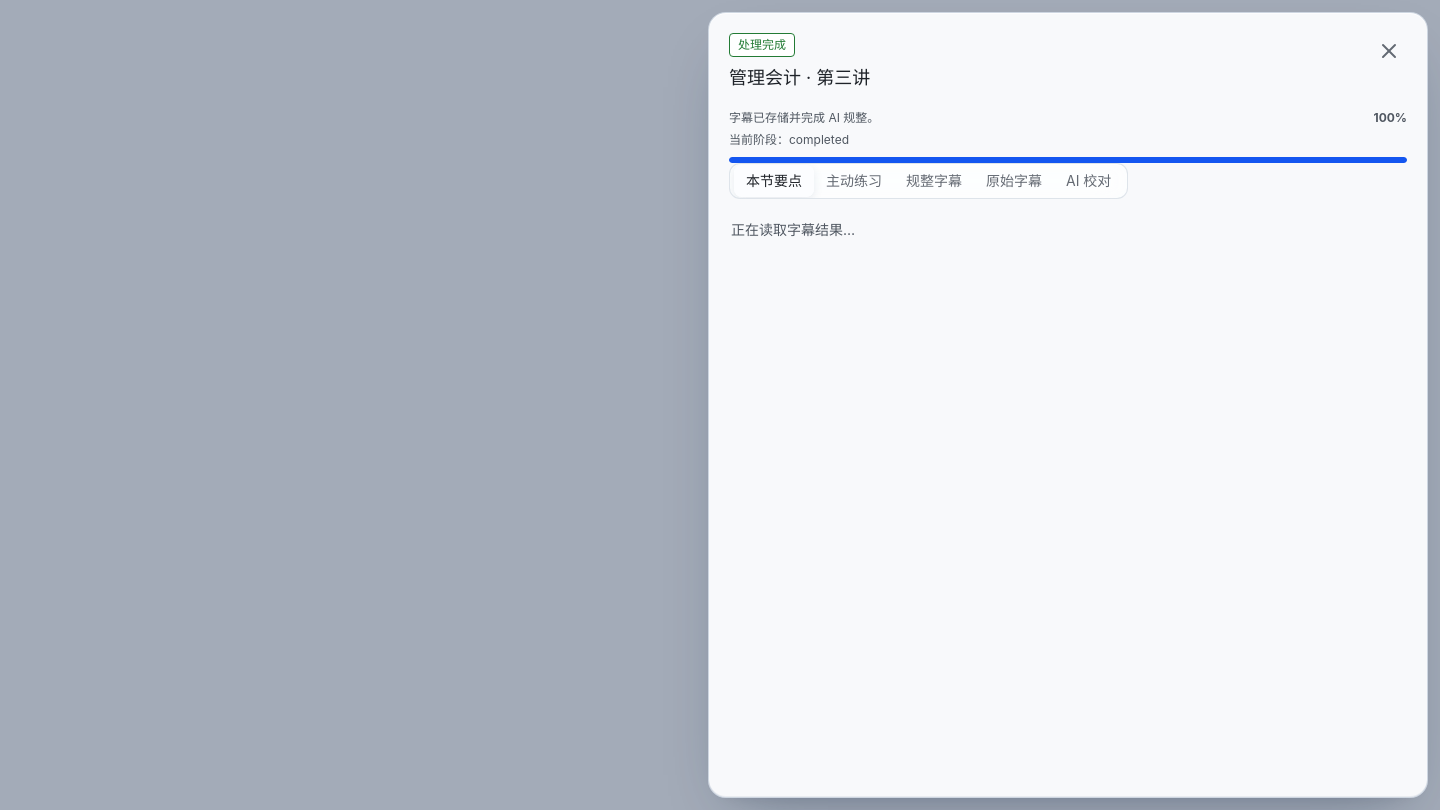
Test: TranscriptDetailDrawer Phase1 › keeps legacy records usable and explains that deep correction is absent
Expected: the text "课程语境驱动的深度校对结果" is not shown
Press the mouse on the tab "AI 校对" at (1089, 181), box x1=1054 y1=165 x2=1123 y2=197
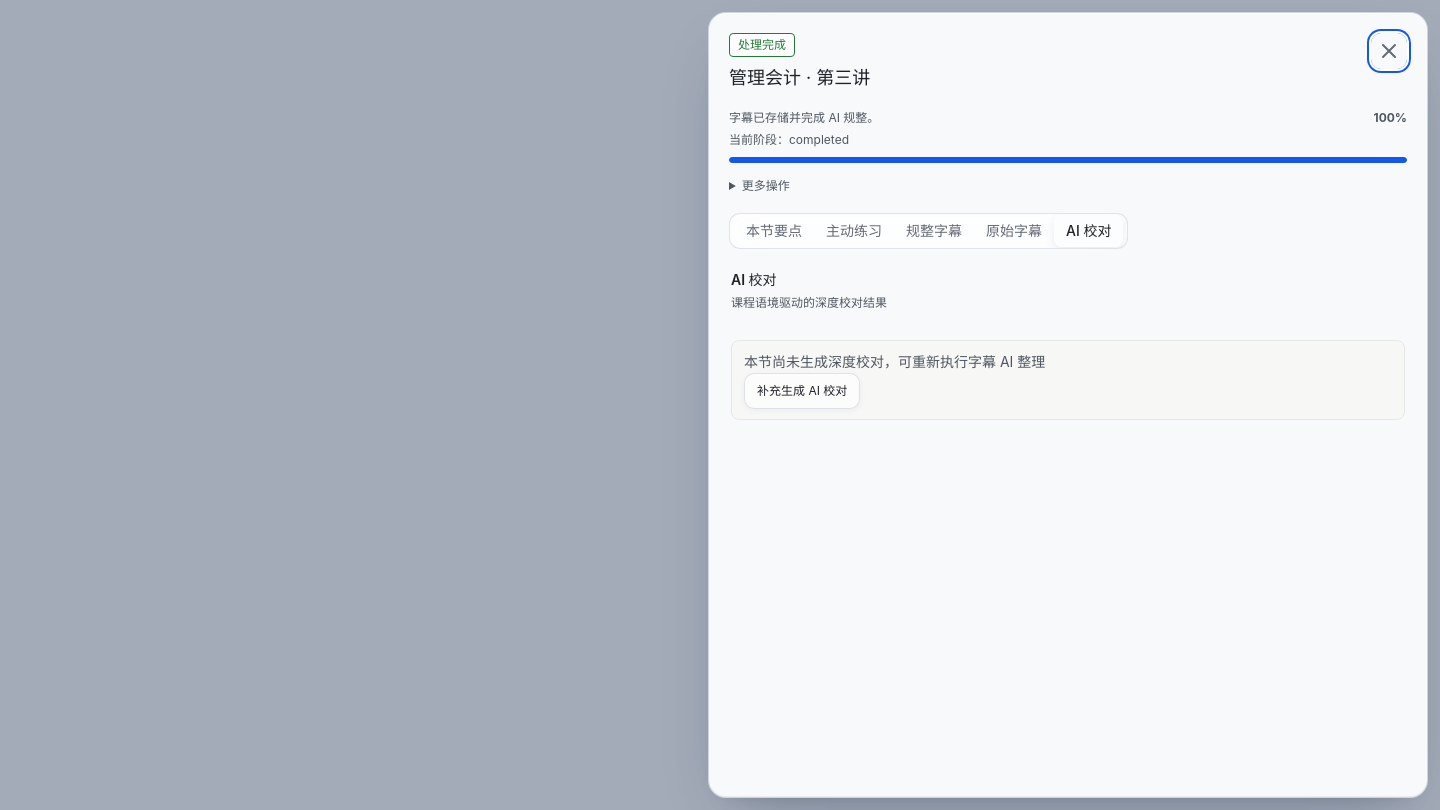
Expected: the text "本节尚未生成深度校对，可重新执行字幕 AI 整理" is shown, x1=744 y1=353 x2=1045 y2=370
